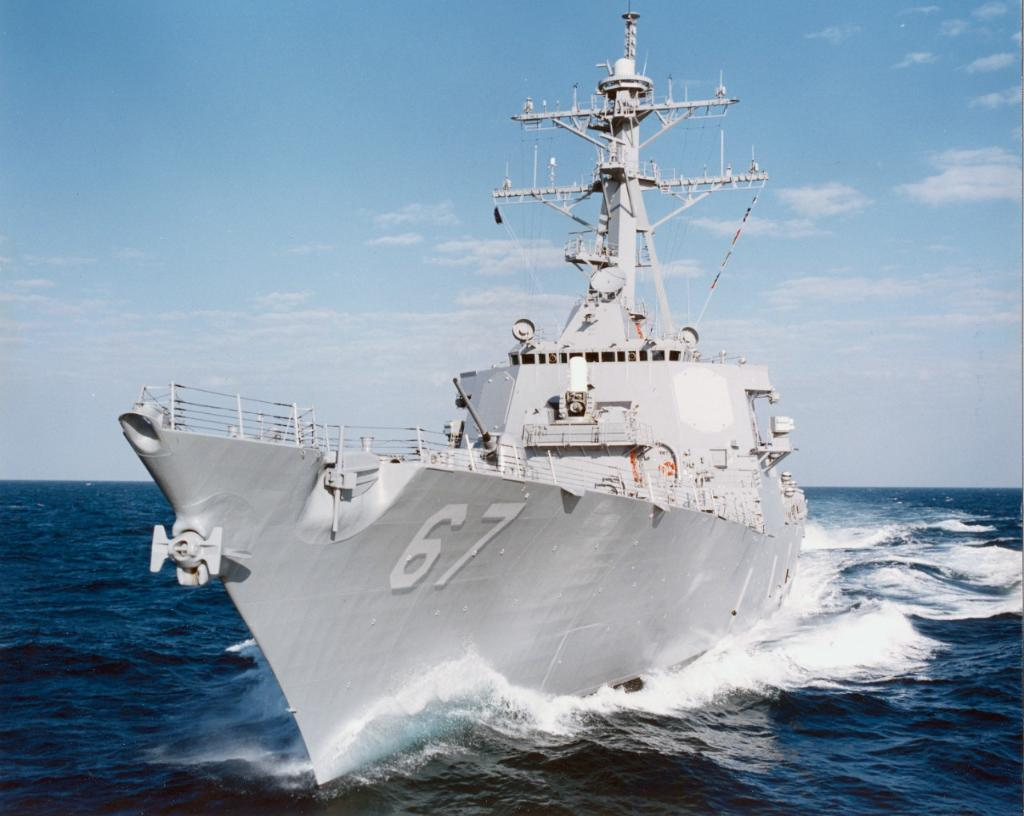Warship: (110, 0, 822, 796)
